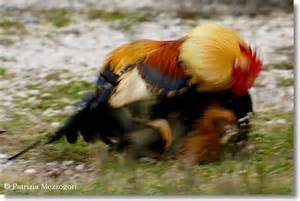hen: (7, 21, 263, 165)
